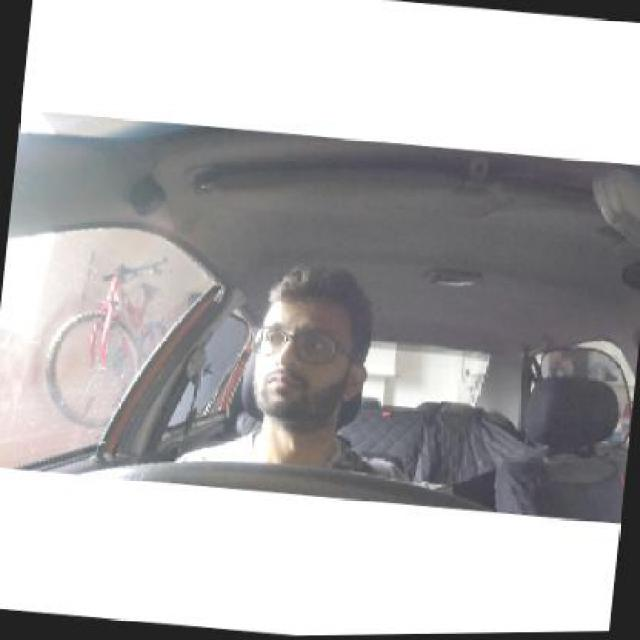person: (239, 264, 383, 442)
